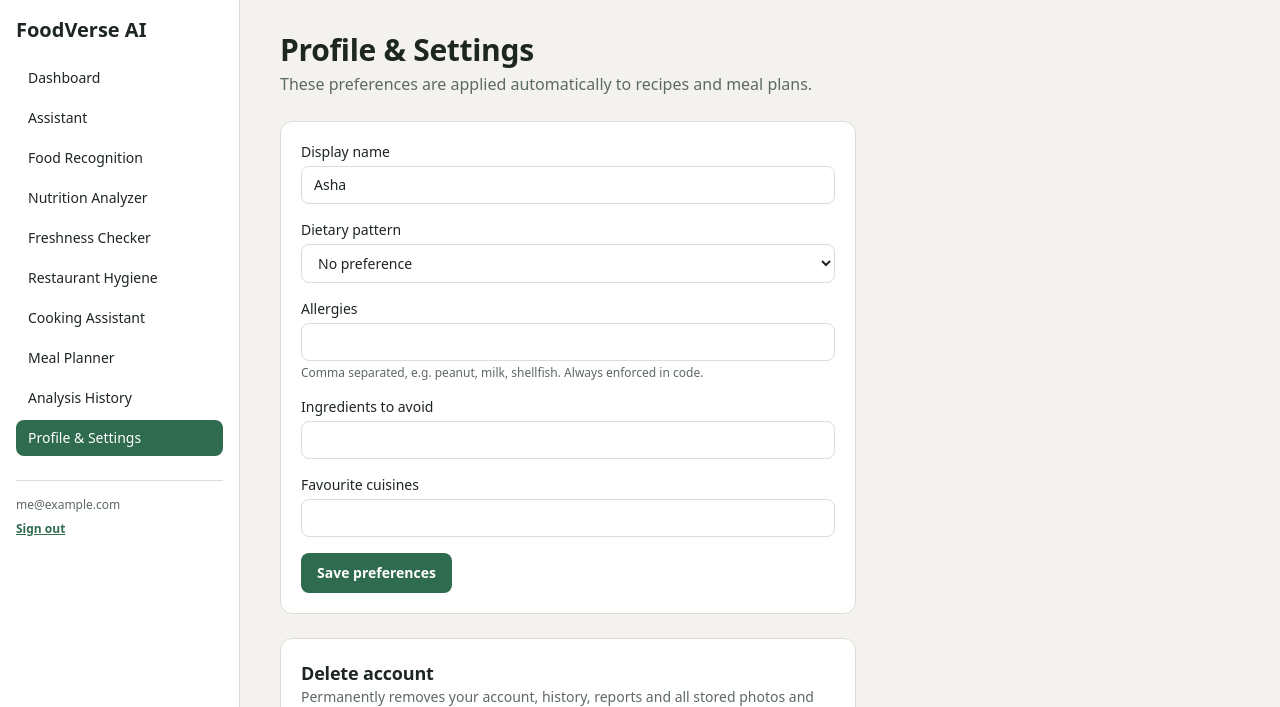
assistant, history, settings › saves profile restrictions as lists
Type "peanut, shellfish" into the field labelled "Allergies" at [568, 342], box [301,323,835,361]
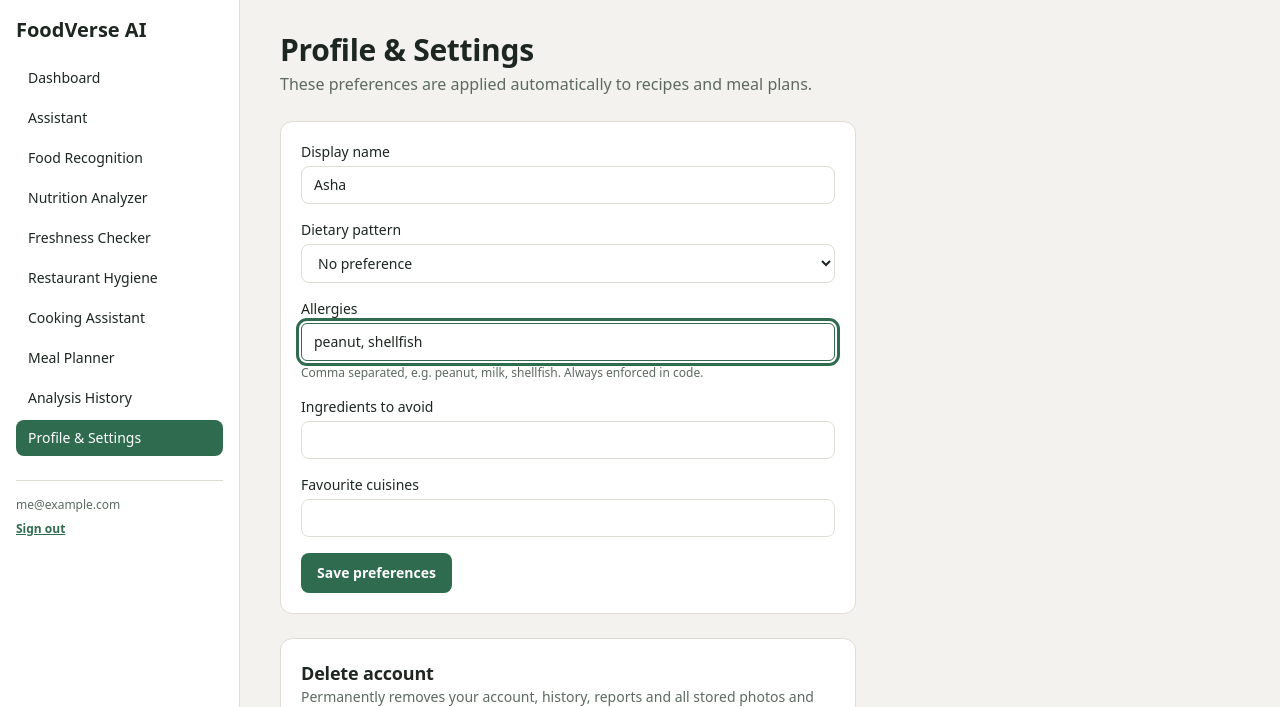
Select "vegan" in the dropdown labelled "Dietary pattern" at [568, 263], box [301,244,835,283]
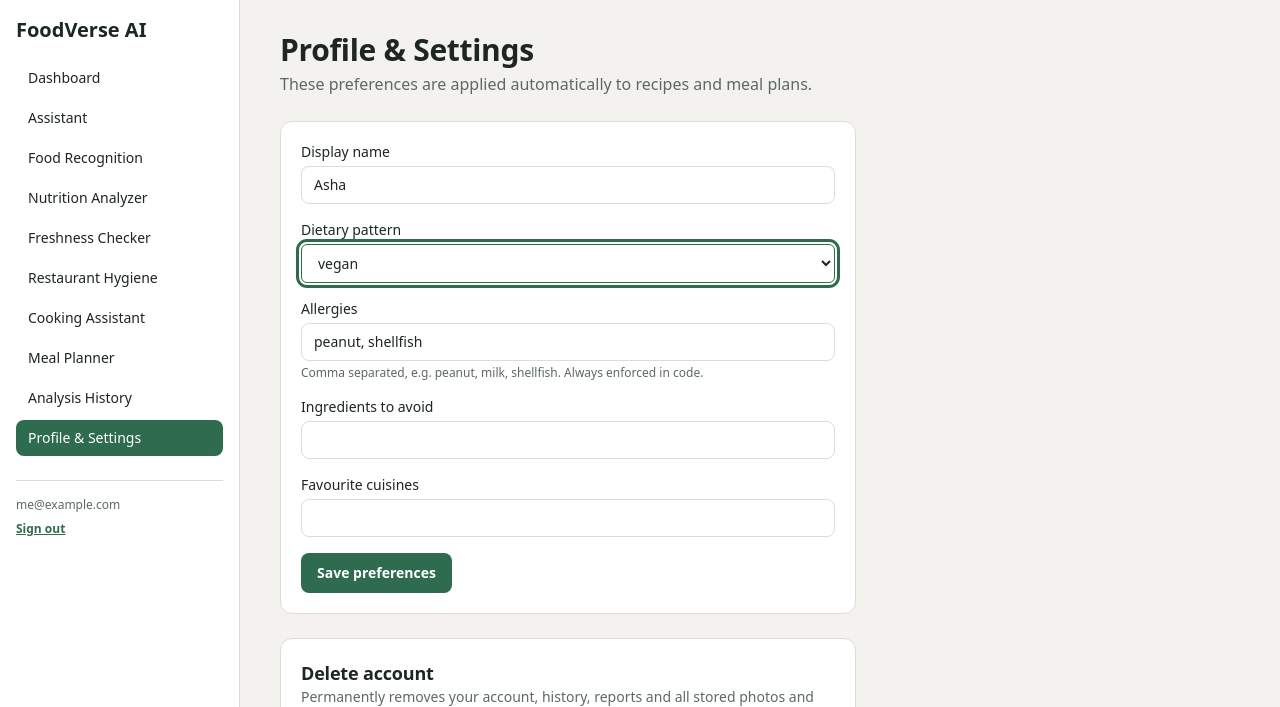
Click the button "Save preferences" at [376, 573], box [301,553,452,593]
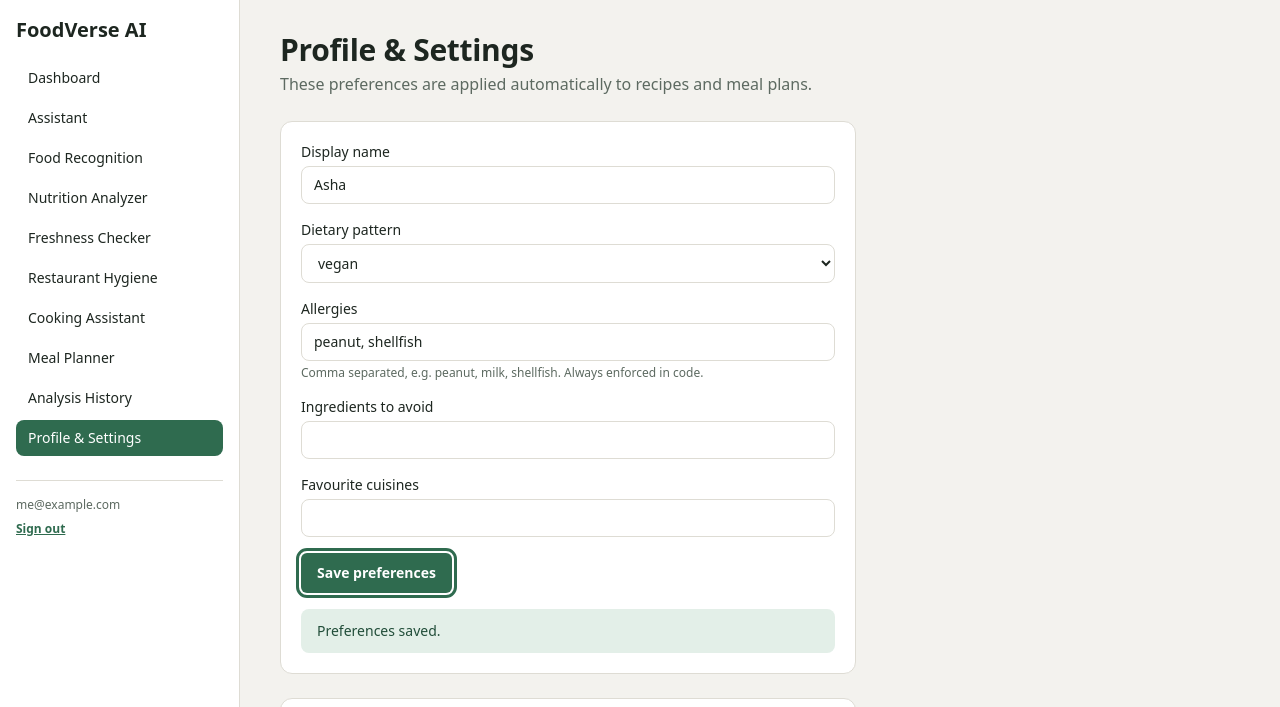
Expected: the text "Preferences saved." is shown, [317,621,440,640]
